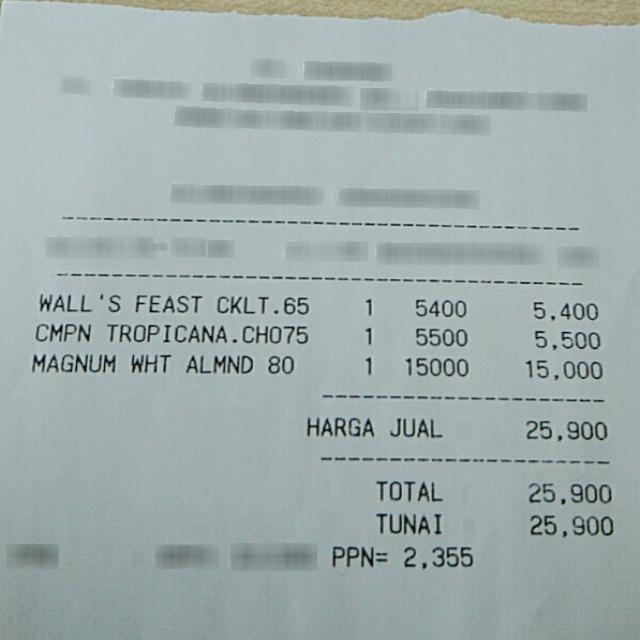text: (106, 322, 307, 344), (525, 481, 609, 504), (216, 294, 306, 314), (528, 514, 610, 535), (525, 418, 606, 439), (402, 544, 472, 567), (526, 358, 602, 379), (30, 352, 113, 370), (373, 479, 441, 500), (304, 415, 372, 435), (372, 512, 440, 532), (184, 353, 253, 372), (532, 300, 597, 319), (534, 330, 599, 348), (134, 294, 200, 311), (331, 546, 386, 566), (388, 417, 441, 436), (34, 323, 88, 341), (406, 357, 466, 373), (414, 297, 463, 316), (415, 327, 465, 345), (37, 293, 89, 310), (130, 354, 169, 370), (267, 354, 294, 373), (99, 293, 118, 310), (362, 354, 373, 376), (362, 296, 373, 316), (362, 326, 373, 346)
